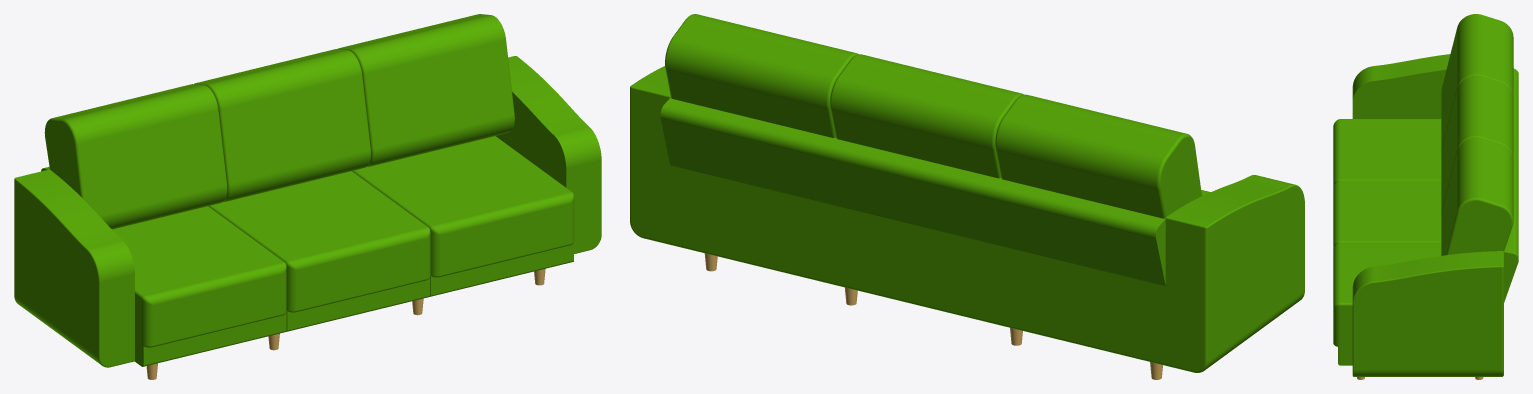
The model's file is sofa.gltf.
3 renders of one model, left to right at view 1: azimuth 30°, elevation 25°; view 2: azimuth 150°, elevation 25°; view 3: azimuth 270°, elevation 25°, orthographic. The views are drawn at different scales.
Parts seen in each view (by area): view 1: body_clone, foot_clone; view 2: body_clone, foot_clone; view 3: body_clone.
Part boxes in pixels (x1=…): body_clone: x1=14, y1=14, x2=601, y2=367; foot_clone: x1=146, y1=268, x2=545, y2=379; body_clone: x1=630, y1=14, x2=1304, y2=372; foot_clone: x1=704, y1=253, x2=1162, y2=379; body_clone: x1=1333, y1=14, x2=1518, y2=376.
Size of the model in its own units: 2.1 by 0.855 by 0.7613.
